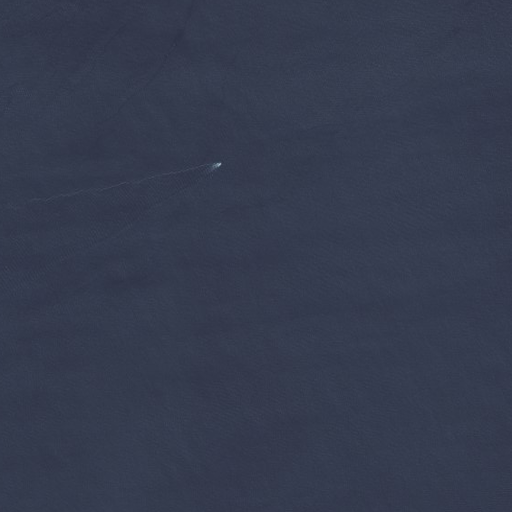ship: (214, 160, 224, 169)
